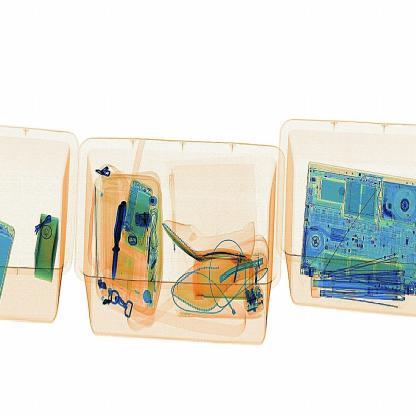gun: (108, 191, 132, 290)
